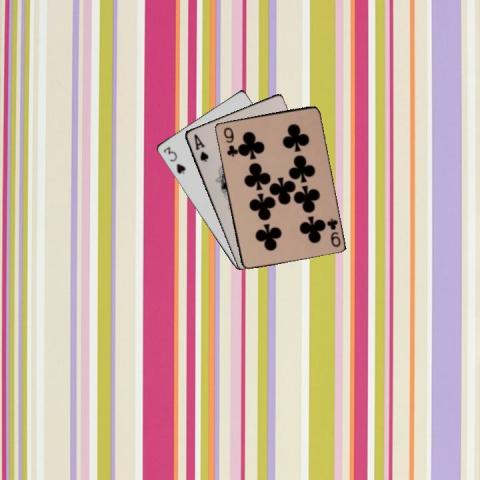3s: (160, 144, 187, 176)
9c: (323, 215, 342, 248), (220, 124, 237, 158)
As: (191, 131, 210, 163)
